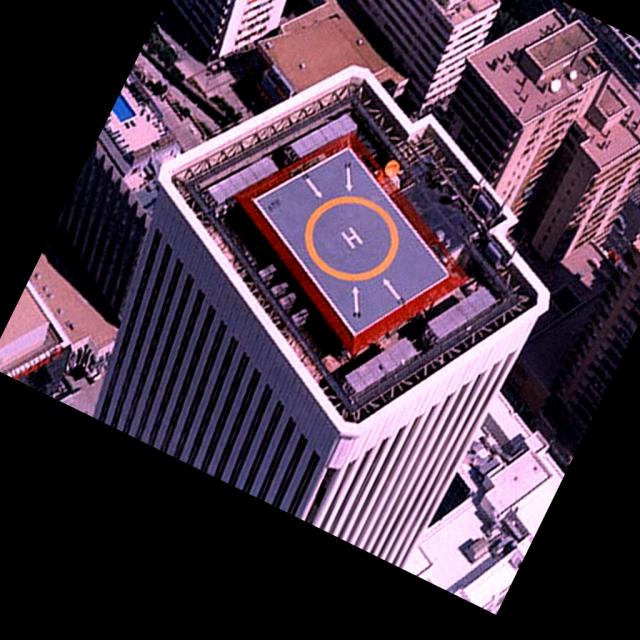helipad: (300, 192, 400, 282)
